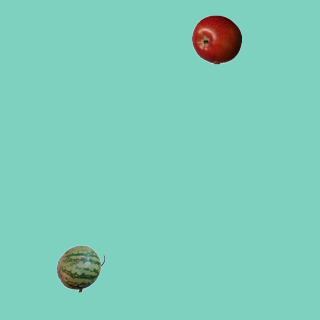Apple Braeburn: (191, 14, 241, 64)
Watermelon: (55, 243, 105, 293)
